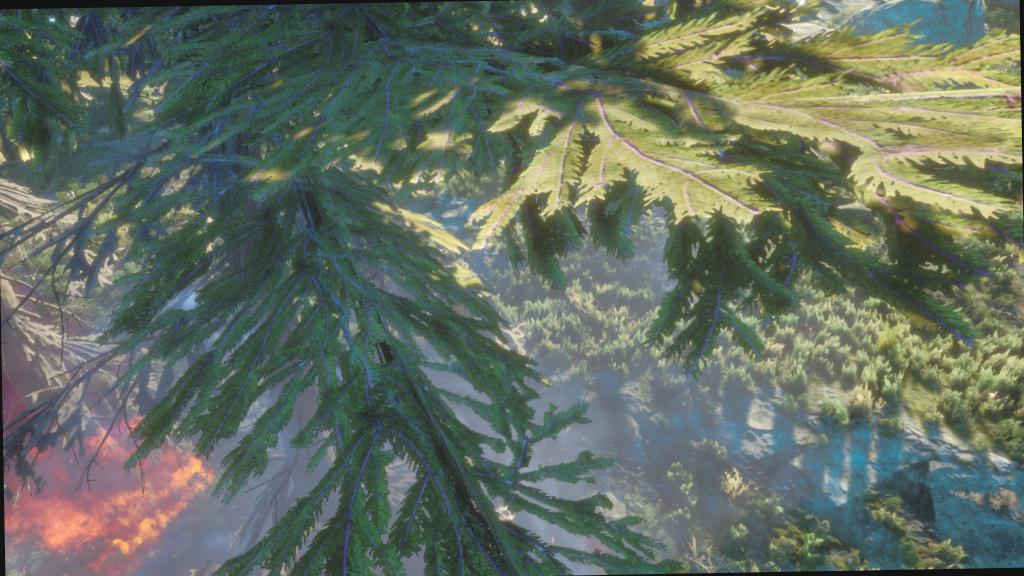Fire: (4, 402, 216, 575)
smoke: (75, 238, 720, 575)
